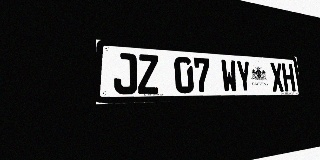0: (174, 56, 194, 93)
7: (192, 57, 212, 93)
H: (281, 63, 296, 92)
J: (113, 52, 137, 94)
W: (220, 59, 238, 93)
X: (270, 62, 284, 92)
Y: (236, 60, 252, 92)
Z: (137, 54, 160, 94)
